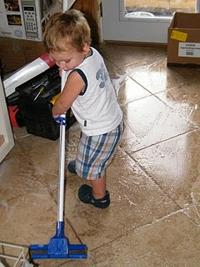person: (43, 9, 125, 210)
